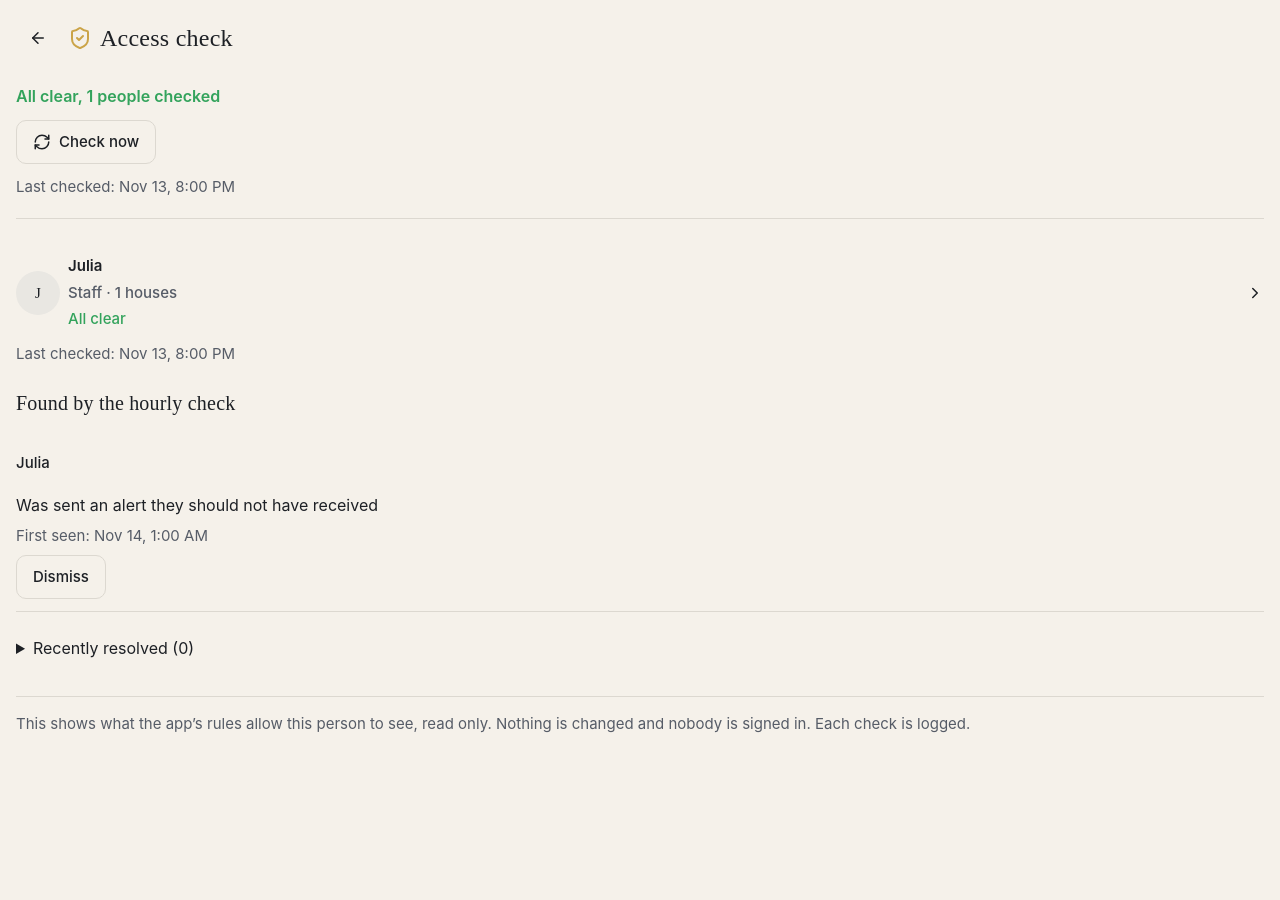
Test: Access check page › dismisses only after the saved update and refreshes findings
Click the button "Dismiss": [61, 577] box [16,555,106,599]
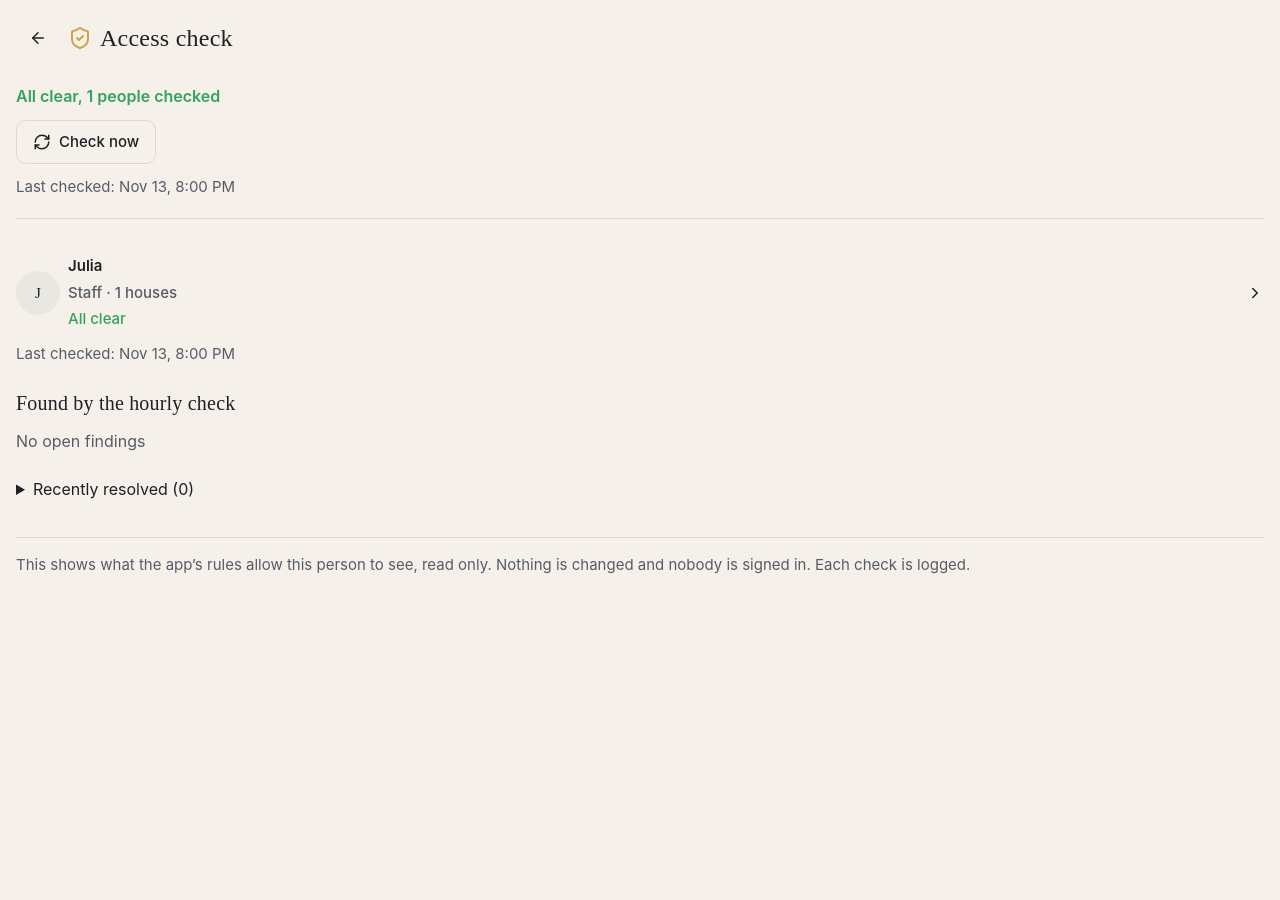
Now the text "No open findings" is shown, box [16,431,146,451]
